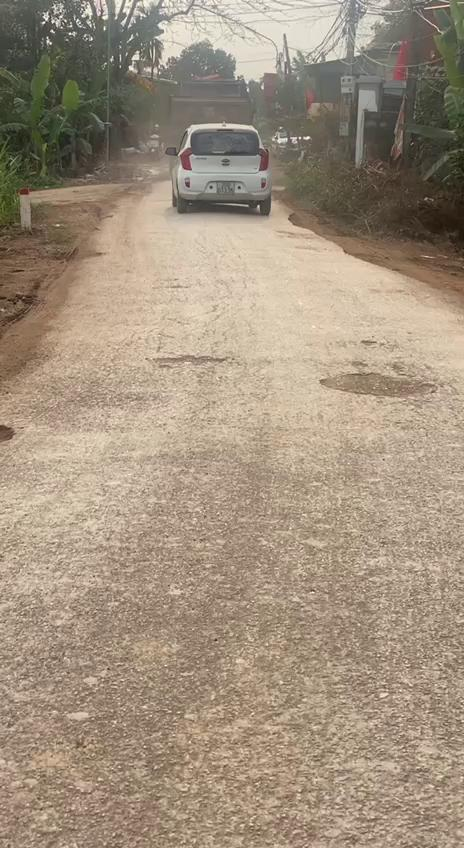pothole: (323, 366, 443, 403), (152, 354, 229, 368)
